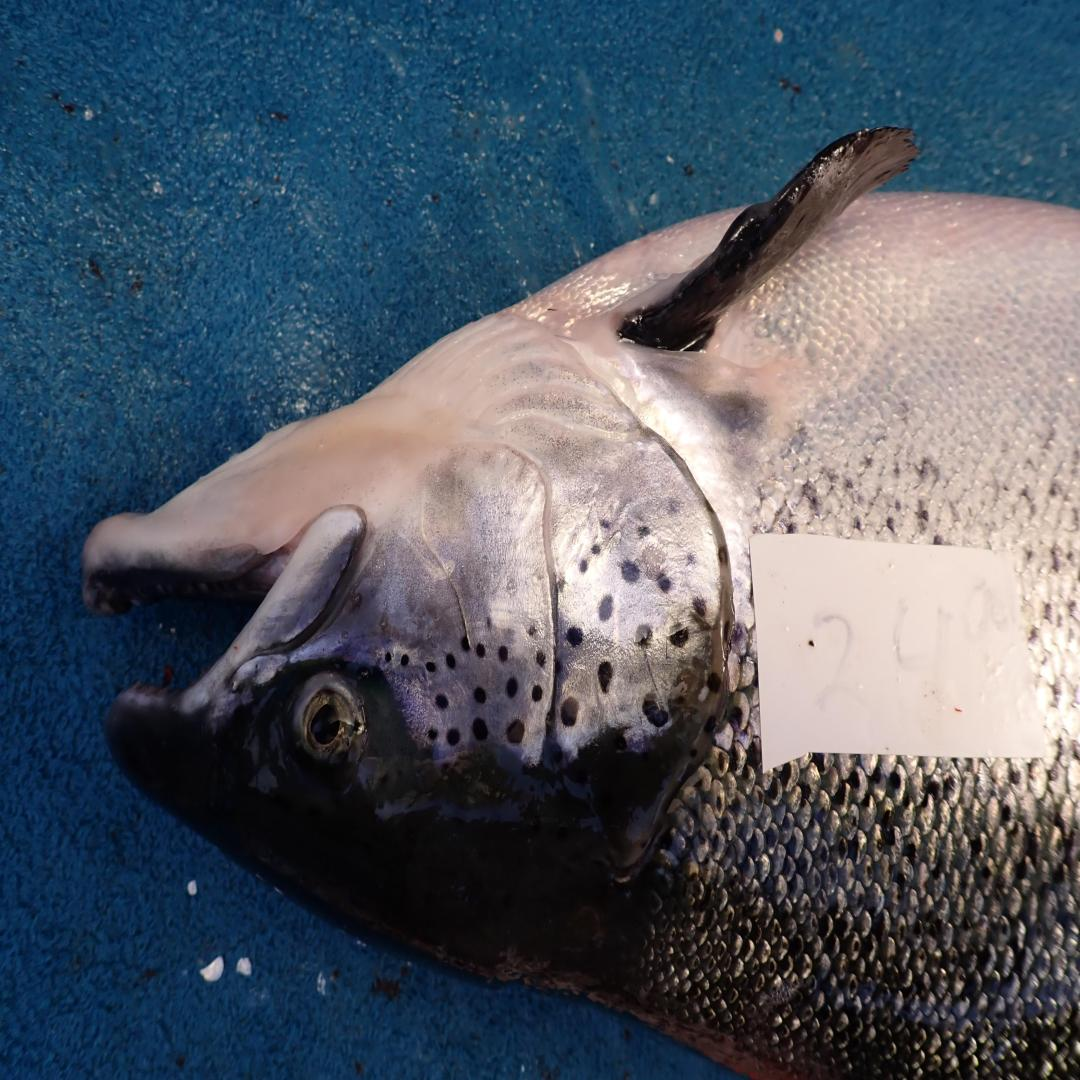spot: (643, 695, 669, 728), (650, 565, 673, 593), (597, 661, 614, 692), (597, 593, 614, 622), (669, 624, 690, 647), (561, 698, 578, 726), (506, 720, 525, 745), (707, 669, 724, 695), (620, 560, 639, 582), (635, 624, 652, 647), (553, 652, 565, 683), (472, 717, 487, 740), (565, 627, 582, 647), (667, 495, 683, 515), (718, 545, 729, 573), (692, 597, 706, 617), (447, 728, 460, 745), (506, 678, 517, 698), (475, 686, 487, 703), (637, 523, 650, 538), (460, 633, 470, 652), (445, 652, 456, 669), (578, 557, 589, 574), (532, 683, 542, 700), (536, 650, 546, 667), (556, 575, 565, 591), (427, 727, 438, 740), (437, 695, 447, 709), (498, 647, 508, 661), (425, 661, 436, 673), (527, 624, 538, 636), (401, 652, 409, 667), (477, 644, 485, 658), (591, 543, 601, 554), (600, 518, 610, 528), (688, 553, 695, 565), (385, 652, 392, 662), (486, 617, 491, 626)
